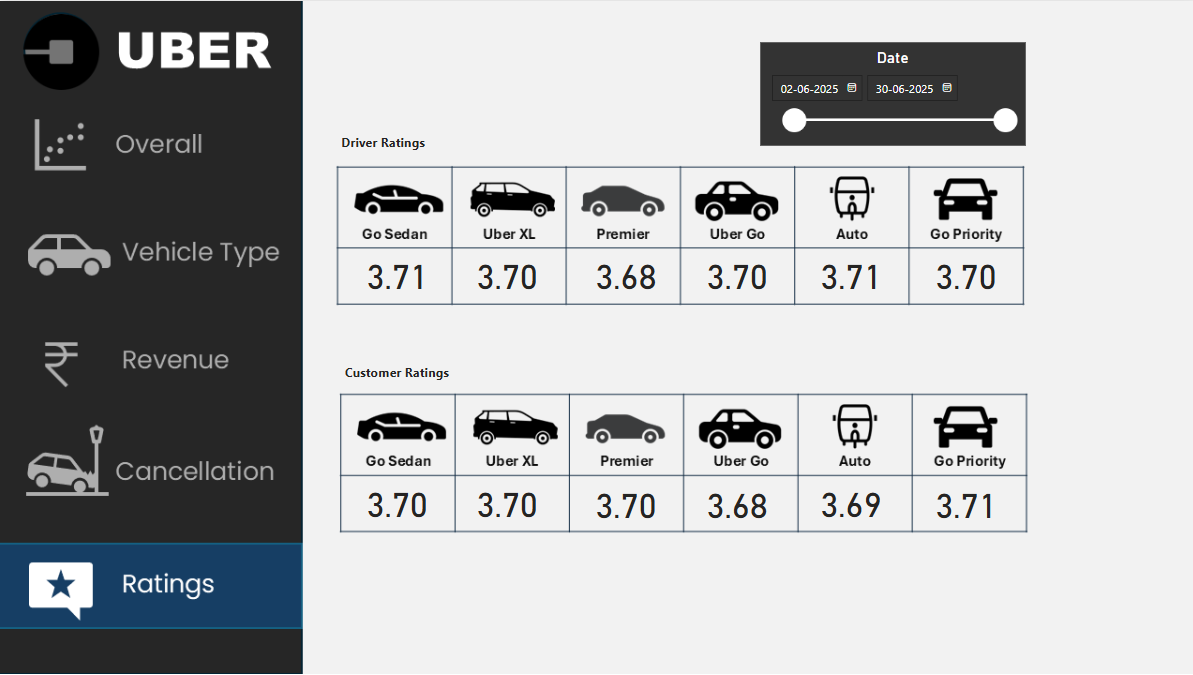

This screenshot's page, from the dashboard's own definition file:
{"tool":"powerbi","page":{"name":"Ratings","canvas":[1280,720],"ordinal":4},"visuals":[{"type":"actionButton","box":[0,220,325,96.7],"z":0},{"type":"actionButton","box":[1.7,333.3,325,96.7],"z":1000},{"type":"actionButton","box":[1.7,448.3,325,96.7],"z":2000},{"type":"actionButton","box":[0,105,325,96.7],"z":3000},{"type":"card","fields":{"Values":["Avg(bookings.Driver_Ratings)"]},"box":[370,268.6,108.6,47.1],"z":4000},{"type":"card","fields":{"Values":["Avg(bookings.Driver_Ratings)"]},"box":[488.6,268.6,108.6,47.1],"z":5000},{"type":"card","fields":{"Values":["Avg(bookings.Driver_Ratings)"]},"box":[614.3,268.6,108.6,47.1],"z":6000},{"type":"card","fields":{"Values":["Avg(bookings.Driver_Ratings)"]},"box":[732.9,268.6,108.6,47.1],"z":7000},{"type":"card","fields":{"Values":["Avg(bookings.Driver_Ratings)"]},"box":[854.3,268.6,108.6,47.1],"z":8000},{"type":"card","fields":{"Values":["Avg(bookings.Driver_Ratings)"]},"box":[977.1,268.6,108.6,47.1],"z":9000},{"type":"card","fields":{"Values":["Avg(bookings.Customer_Rating)"]},"box":[370,510,108.6,47.1],"z":10000},{"type":"textbox","box":[360,135.7,148.6,35.7],"z":11000},{"type":"textbox","box":[364.3,381.4,151.4,35.7],"z":12000},{"type":"card","fields":{"Values":["Avg(bookings.Customer_Rating)"]},"box":[488.6,510,108.6,47.1],"z":13000},{"type":"card","fields":{"Values":["Avg(bookings.Customer_Rating)"]},"box":[614.3,511.4,108.6,47.1],"z":14000},{"type":"card","fields":{"Values":["Avg(bookings.Customer_Rating)"]},"box":[732.9,511.4,108.6,47.1],"z":15000},{"type":"card","fields":{"Values":["Avg(bookings.Customer_Rating)"]},"box":[854.3,510,108.6,47.1],"z":16000},{"type":"card","fields":{"Values":["Avg(bookings.Customer_Rating)"]},"box":[977.1,511.4,108.6,47.1],"z":17000},{"type":"slicer","title":"Date","fields":{"Values":["bookings.Date"]},"box":[811.4,44.3,282.9,110],"z":18000}]}

Visuals, with their boxes in screenshot pixels (x1, y1, x2, y2), scaled from the page's 1280x720 canvas onto the 1193x675 screenshot:
actionButton: (x1=0, y1=206, x2=303, y2=297)
actionButton: (x1=2, y1=312, x2=304, y2=403)
actionButton: (x1=2, y1=420, x2=304, y2=511)
actionButton: (x1=0, y1=98, x2=303, y2=189)
card - Avg(bookings.Driver_Ratings): (x1=345, y1=252, x2=446, y2=296)
card - Avg(bookings.Driver_Ratings): (x1=455, y1=252, x2=557, y2=296)
card - Avg(bookings.Driver_Ratings): (x1=573, y1=252, x2=674, y2=296)
card - Avg(bookings.Driver_Ratings): (x1=683, y1=252, x2=784, y2=296)
card - Avg(bookings.Driver_Ratings): (x1=796, y1=252, x2=897, y2=296)
card - Avg(bookings.Driver_Ratings): (x1=911, y1=252, x2=1012, y2=296)
card - Avg(bookings.Customer_Rating): (x1=345, y1=478, x2=446, y2=522)
textbox: (x1=336, y1=127, x2=474, y2=161)
textbox: (x1=340, y1=358, x2=481, y2=391)
card - Avg(bookings.Customer_Rating): (x1=455, y1=478, x2=557, y2=522)
card - Avg(bookings.Customer_Rating): (x1=573, y1=479, x2=674, y2=524)
card - Avg(bookings.Customer_Rating): (x1=683, y1=479, x2=784, y2=524)
card - Avg(bookings.Customer_Rating): (x1=796, y1=478, x2=897, y2=522)
card - Avg(bookings.Customer_Rating): (x1=911, y1=479, x2=1012, y2=524)
"Date" slicer: (x1=756, y1=42, x2=1020, y2=145)
